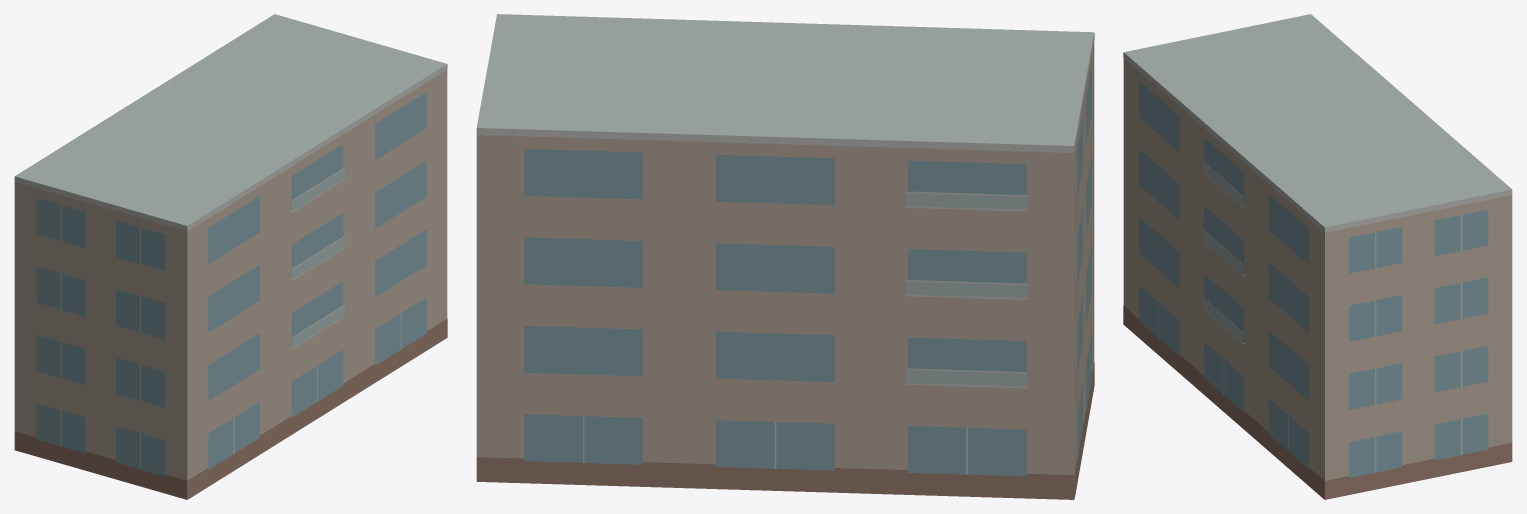
File: survey-upis-33030436.glb
3 renders of one model, left to right at view 1: azimuth 30°, elevation 25°; view 2: azimuth 150°, elevation 25°; view 3: azimuth 270°, elevation 25°, orthographic. The views are drawn at different scales.
Visible parts, largest first — view 1: survey-upis-33030436.tmp; view 2: survey-upis-33030436.tmp; view 3: survey-upis-33030436.tmp.
Boxes of the visible parts, box(x1,y1,x2,y2) form: survey-upis-33030436.tmp: box(14, 14, 447, 499); survey-upis-33030436.tmp: box(476, 14, 1094, 499); survey-upis-33030436.tmp: box(1123, 14, 1512, 499).
Bounding box in the file's own units: 20.52 × 12.2 × 15.79.
